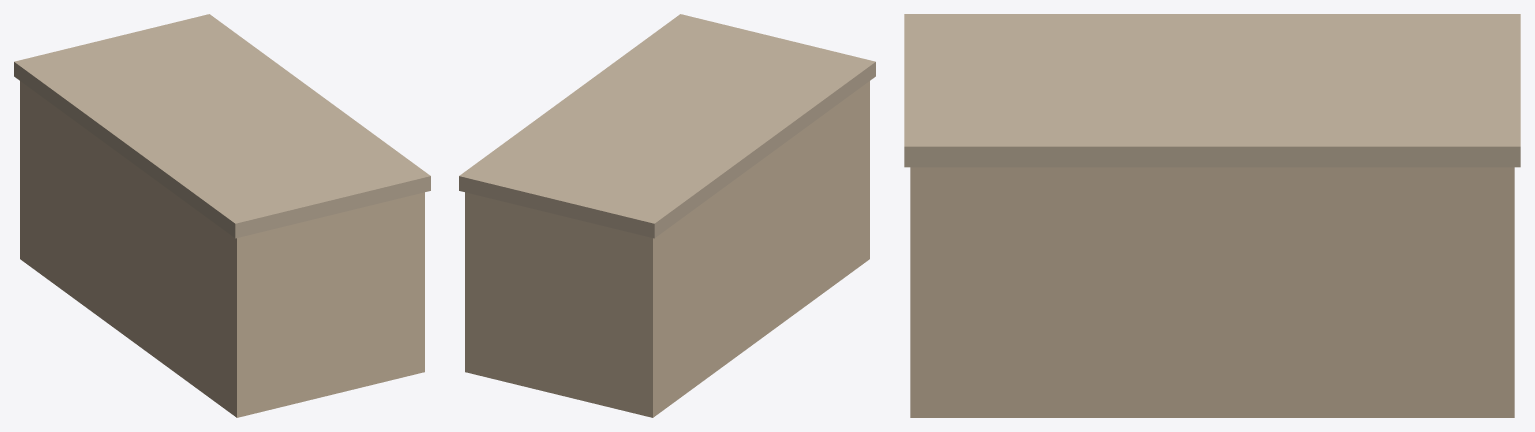
Rendered from city_stair_landing.glb.
3 views of the same model, side by side, from view 1: azimuth 30°, elevation 25°; view 2: azimuth 150°, elevation 25°; view 3: azimuth 270°, elevation 25° (orthographic). The views are drawn at different scales.
Visible parts, largest first — view 1: CityStairLanding_Pier, CityStairLanding_Top; view 2: CityStairLanding_Pier, CityStairLanding_Top; view 3: CityStairLanding_Pier, CityStairLanding_Top.
Part boxes in pixels (x1=…): CityStairLanding_Pier: x1=20, y1=81, x2=424, y2=417; CityStairLanding_Top: x1=14, y1=14, x2=430, y2=238; CityStairLanding_Pier: x1=465, y1=81, x2=869, y2=417; CityStairLanding_Top: x1=459, y1=14, x2=875, y2=238; CityStairLanding_Pier: x1=910, y1=167, x2=1514, y2=417; CityStairLanding_Top: x1=904, y1=14, x2=1520, y2=167.
Size of the model in its own units: 2.08 by 2 by 4.08.
